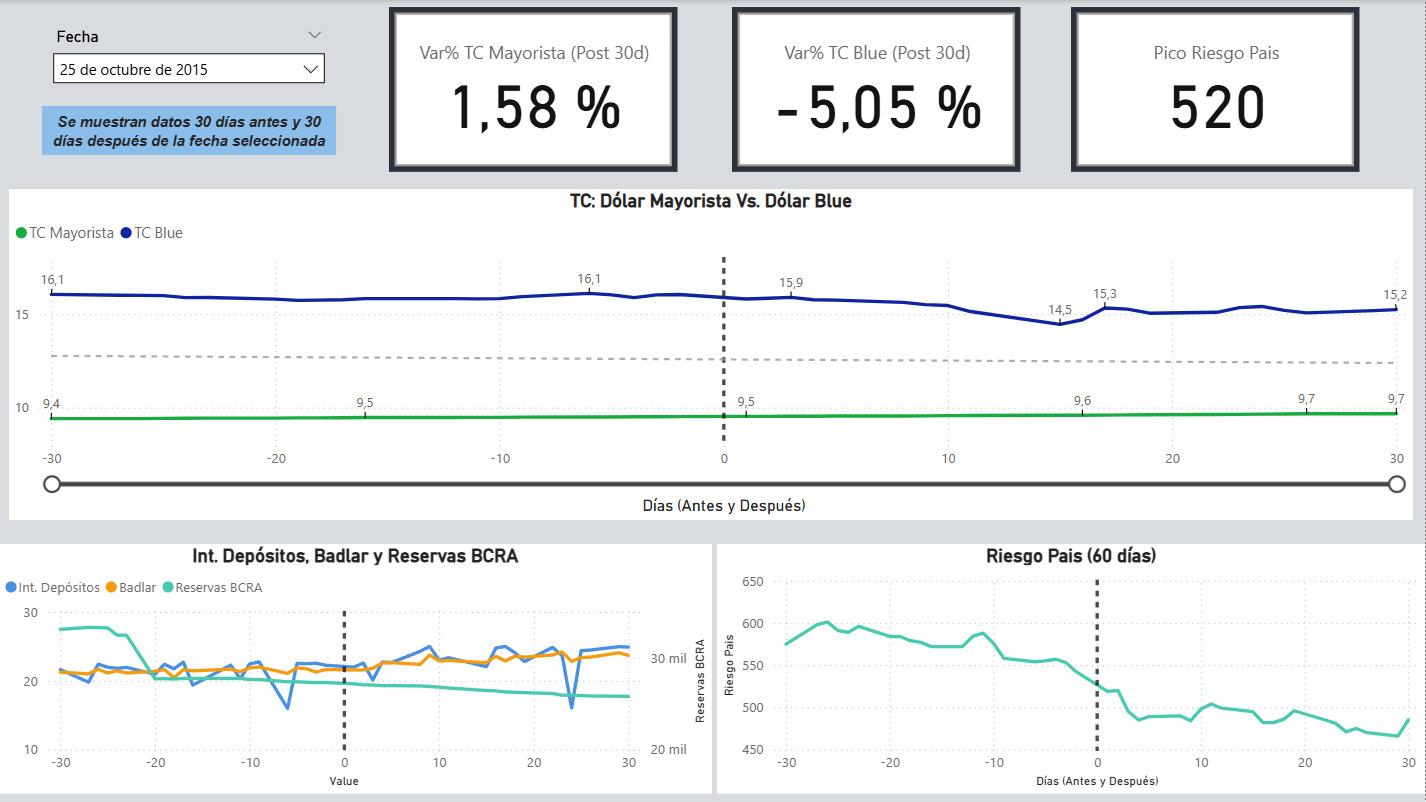

What the dashboard file says about the page in this screenshot:
{"tool":"powerbi","page":{"name":"TC elecciones","canvas":[1280,720],"ordinal":0},"visuals":[{"type":"cardVisual","fields":{"Data":["Medidas Dax.Var% TC Mayorista (Post 30d)"]},"box":[350.1,6.3,259.5,148.1],"z":0},{"type":"lineChart","title":"TC: Dólar Mayorista Vs. Dólar Blue","fields":{"Category":["Dias Relativos.Value"],"Y":["Medidas Dax.TC Mayorista por Dia Relativo","Medidas Dax.TC Blue por Dia Relativo"]},"box":[9,169.7,1260.4,297.2],"z":1000},{"type":"lineChart","title":"Int. Depósitos, Badlar y Reservas BCRA","fields":{"Category":["Dias Relativos.Value"],"Y2":["Medidas Dax.Reservas por Dia Relativo"],"Y":["Medidas Dax.int depositos por Dia Relativo","Medidas Dax.Badlar Dia Relativo"]},"box":[0,488.4,640.1,223.5],"z":2000},{"type":"slicer","fields":{"Values":["Elecciones.Fecha"]},"box":[38.6,19.8,263.9,80.8],"z":3000},{"type":"lineChart","title":"Riesgo Pais (60 días)","fields":{"Category":["Dias Relativos.Value"],"Y":["Medidas Dax.Riesgo Pais por Dia Relativo"]},"box":[644.6,488.4,635.6,223.5],"z":4000},{"type":"cardVisual","fields":{"Data":["Medidas Dax.Var% TC Blue (Post 30d)"]},"box":[658.1,6.3,259.5,148.1],"z":5000},{"type":"cardVisual","title":"Pico Riesgo País","fields":{"Data":["Medidas Dax.Pico Riesgo Pais (Post 30d)"]},"box":[962.4,6.3,259.5,148.1],"z":6000},{"type":"textbox","box":[38.6,95.2,263.9,44],"z":8000}]}

Visuals, with their boxes in screenshot pixels (x1, y1, x2, y2), scaled from the page's 1280x720 canvas onto the 1426x802 screenshot:
cardVisual - Medidas Dax.Var% TC Mayorista (Post 30d): crop(390, 7, 679, 172)
"TC: Dólar Mayorista Vs. Dólar Blue" lineChart: crop(10, 189, 1414, 520)
"Int. Depósitos, Badlar y Reservas BCRA" lineChart: crop(0, 544, 713, 793)
slicer - Elecciones.Fecha: crop(43, 22, 337, 112)
"Riesgo Pais (60 días)" lineChart: crop(718, 544, 1425, 793)
cardVisual - Medidas Dax.Var% TC Blue (Post 30d): crop(733, 7, 1022, 172)
"Pico Riesgo País" cardVisual: crop(1072, 7, 1361, 172)
textbox: crop(43, 106, 337, 155)
